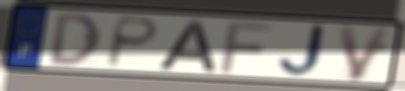A: (155, 18, 218, 73)
D: (48, 11, 103, 67)
F: (218, 19, 277, 75)
J: (276, 23, 334, 79)
P: (103, 14, 163, 69)
V: (336, 24, 394, 83)
